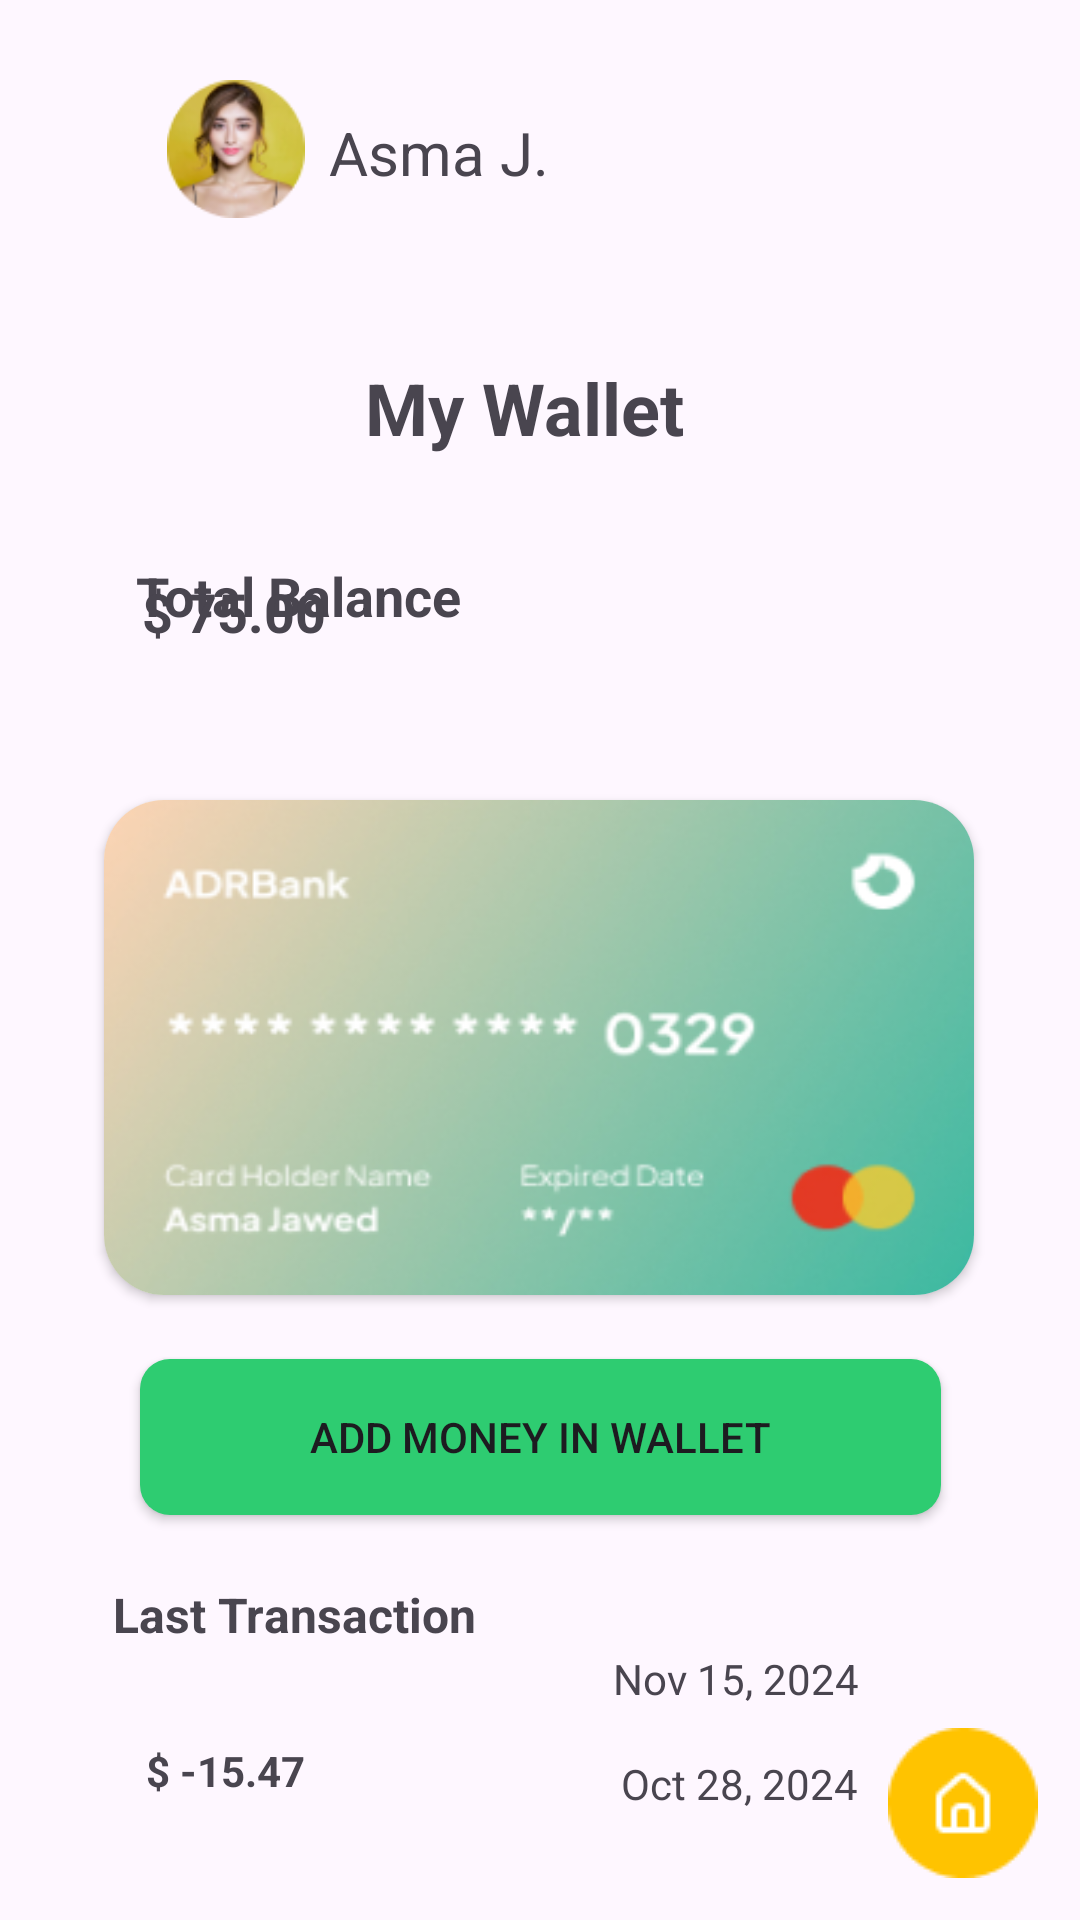

Where icons sit on this 1080x1920 app screen, as box(x1, y1, x2, y2):
home: box(888, 1728, 1038, 1878)
